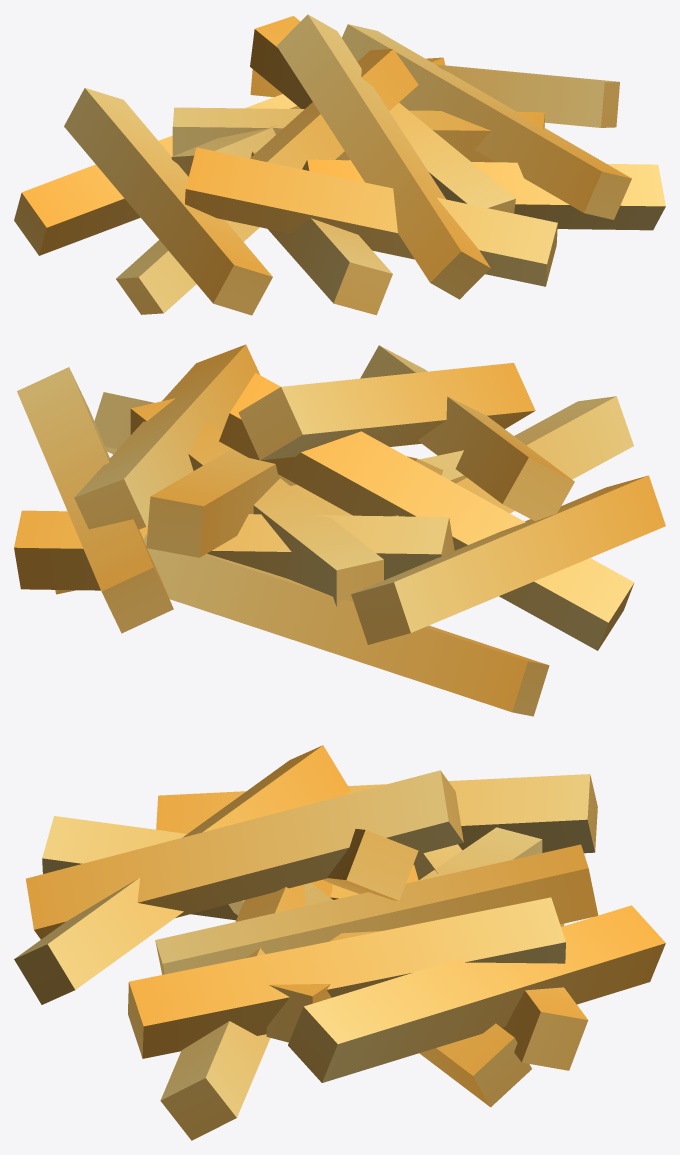
The model's file is DoubleCooked_FriesCooked.fbx.
3 renders of one model, top to bottom at view 1: azimuth 30°, elevation 25°; view 2: azimuth 150°, elevation 25°; view 3: azimuth 270°, elevation 25°, orthographic. The views are drawn at different scales.
Visible parts, largest first — view 1: DoubleCooked_FriesCooked; view 2: DoubleCooked_FriesCooked; view 3: DoubleCooked_FriesCooked.
Part boxes in pixels (x1,y1,x2,y2): DoubleCooked_FriesCooked: (14, 14, 665, 315); DoubleCooked_FriesCooked: (14, 344, 665, 716); DoubleCooked_FriesCooked: (14, 745, 665, 1140).
Size of the model in its own units: 21.66 by 8.39 by 20.07.
Materials: 1 (1 with a texture image).
